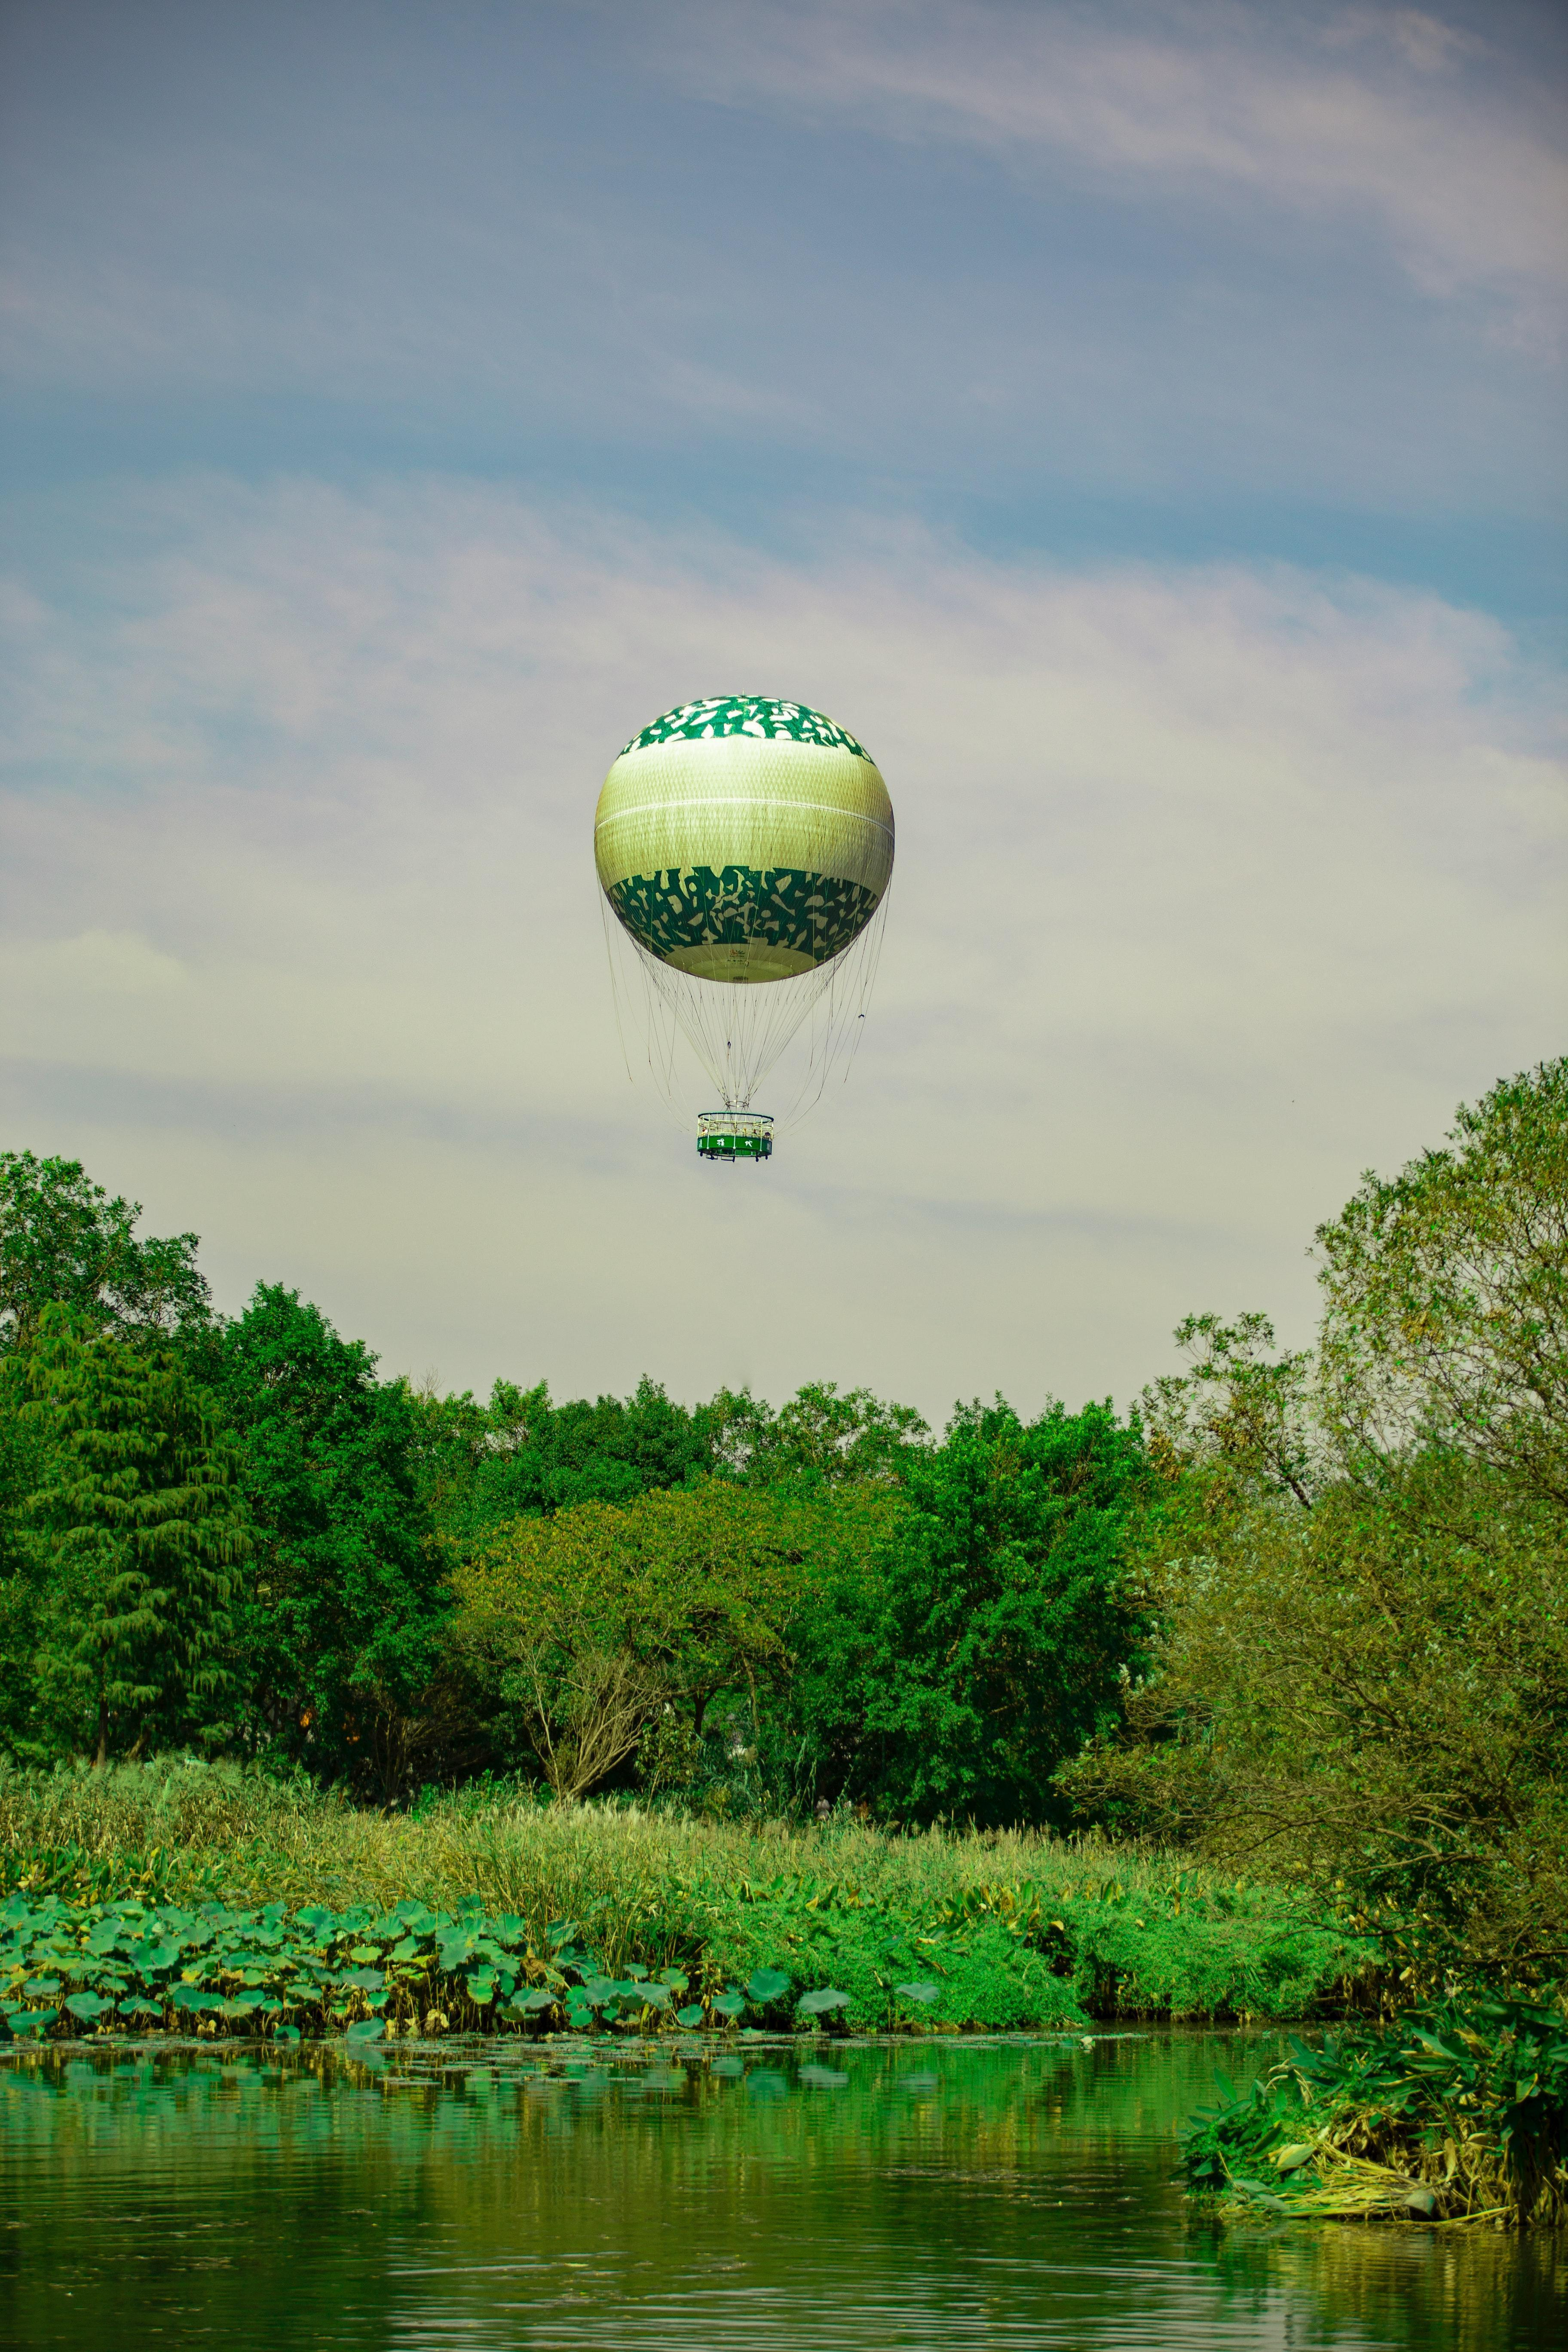hot air ballon: (591, 693, 898, 1157)
